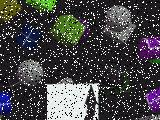Left: (47, 83, 98, 120)
